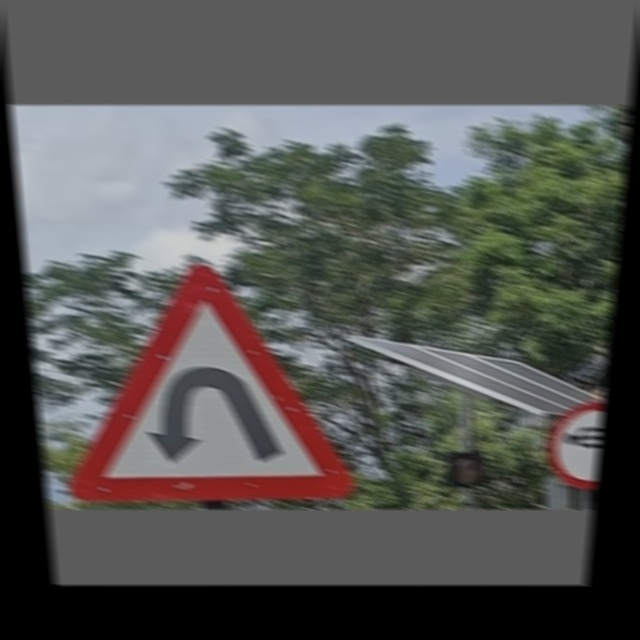Left_Hair_Pin_Bend: (52, 264, 363, 499)
